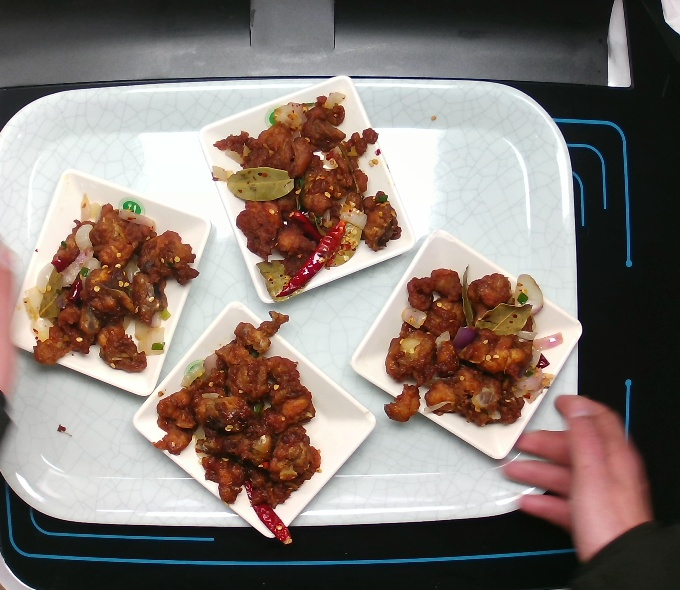wcq-LaZiJiKuai: (149, 309, 330, 547), (210, 89, 404, 300), (25, 192, 201, 378), (381, 266, 567, 431)
